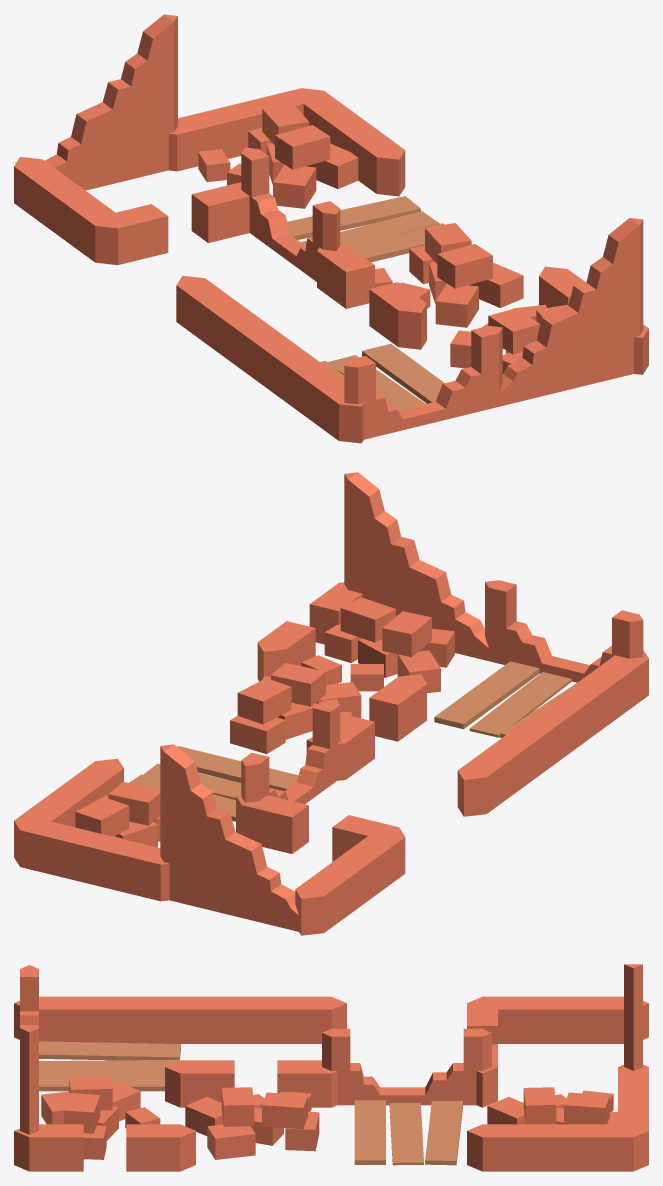
Rendered from Casa 8 Rota.obj.
The picture shows the model from 3 angles, top to bottom: view 1: azimuth 30°, elevation 25°; view 2: azimuth 150°, elevation 25°; view 3: azimuth 270°, elevation 25°; orthographic projection. The views are drawn at different scales.
Bounding box in the file's own units: 2.2 × 1 × 4.2.
